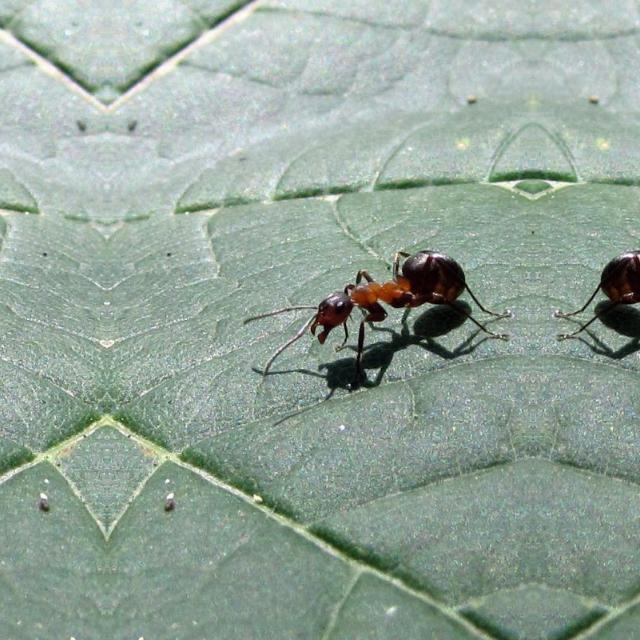Formica: (281, 232, 483, 374), (580, 232, 640, 374)
